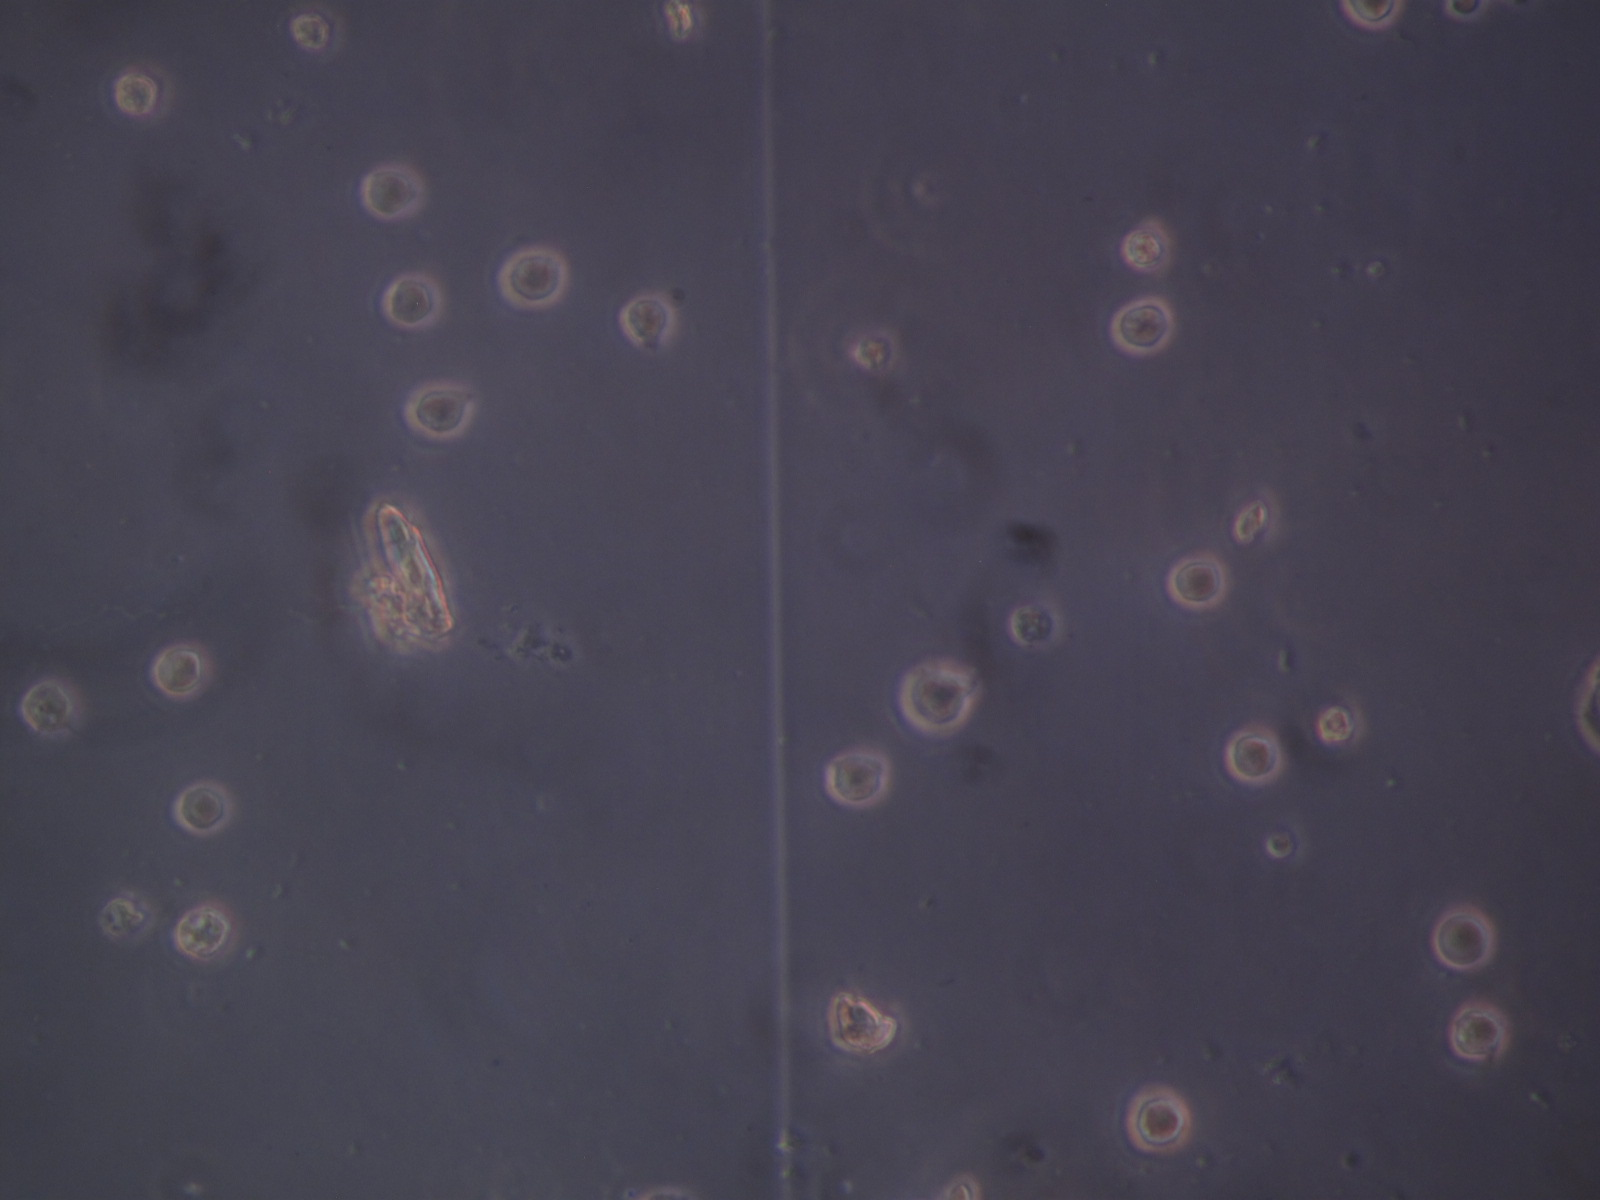hemo: (898, 659, 973, 737), (1124, 1084, 1192, 1155), (402, 379, 474, 441), (830, 991, 896, 1056), (150, 640, 215, 705), (1230, 478, 1283, 557), (495, 250, 566, 309), (1431, 908, 1497, 971), (111, 57, 173, 122), (94, 881, 156, 945), (23, 672, 83, 737), (358, 163, 423, 222), (1222, 725, 1285, 785), (1110, 296, 1173, 355), (174, 903, 233, 963), (171, 782, 233, 839), (1165, 553, 1228, 610), (826, 753, 891, 807), (1449, 1008, 1511, 1061), (383, 274, 442, 328), (1121, 216, 1170, 277), (620, 296, 677, 349), (1318, 687, 1366, 749), (289, 9, 345, 61), (1009, 597, 1065, 649), (1265, 816, 1309, 865), (850, 328, 900, 371), (1340, 1, 1406, 29), (941, 1175, 983, 1200), (1444, 1, 1489, 21)
